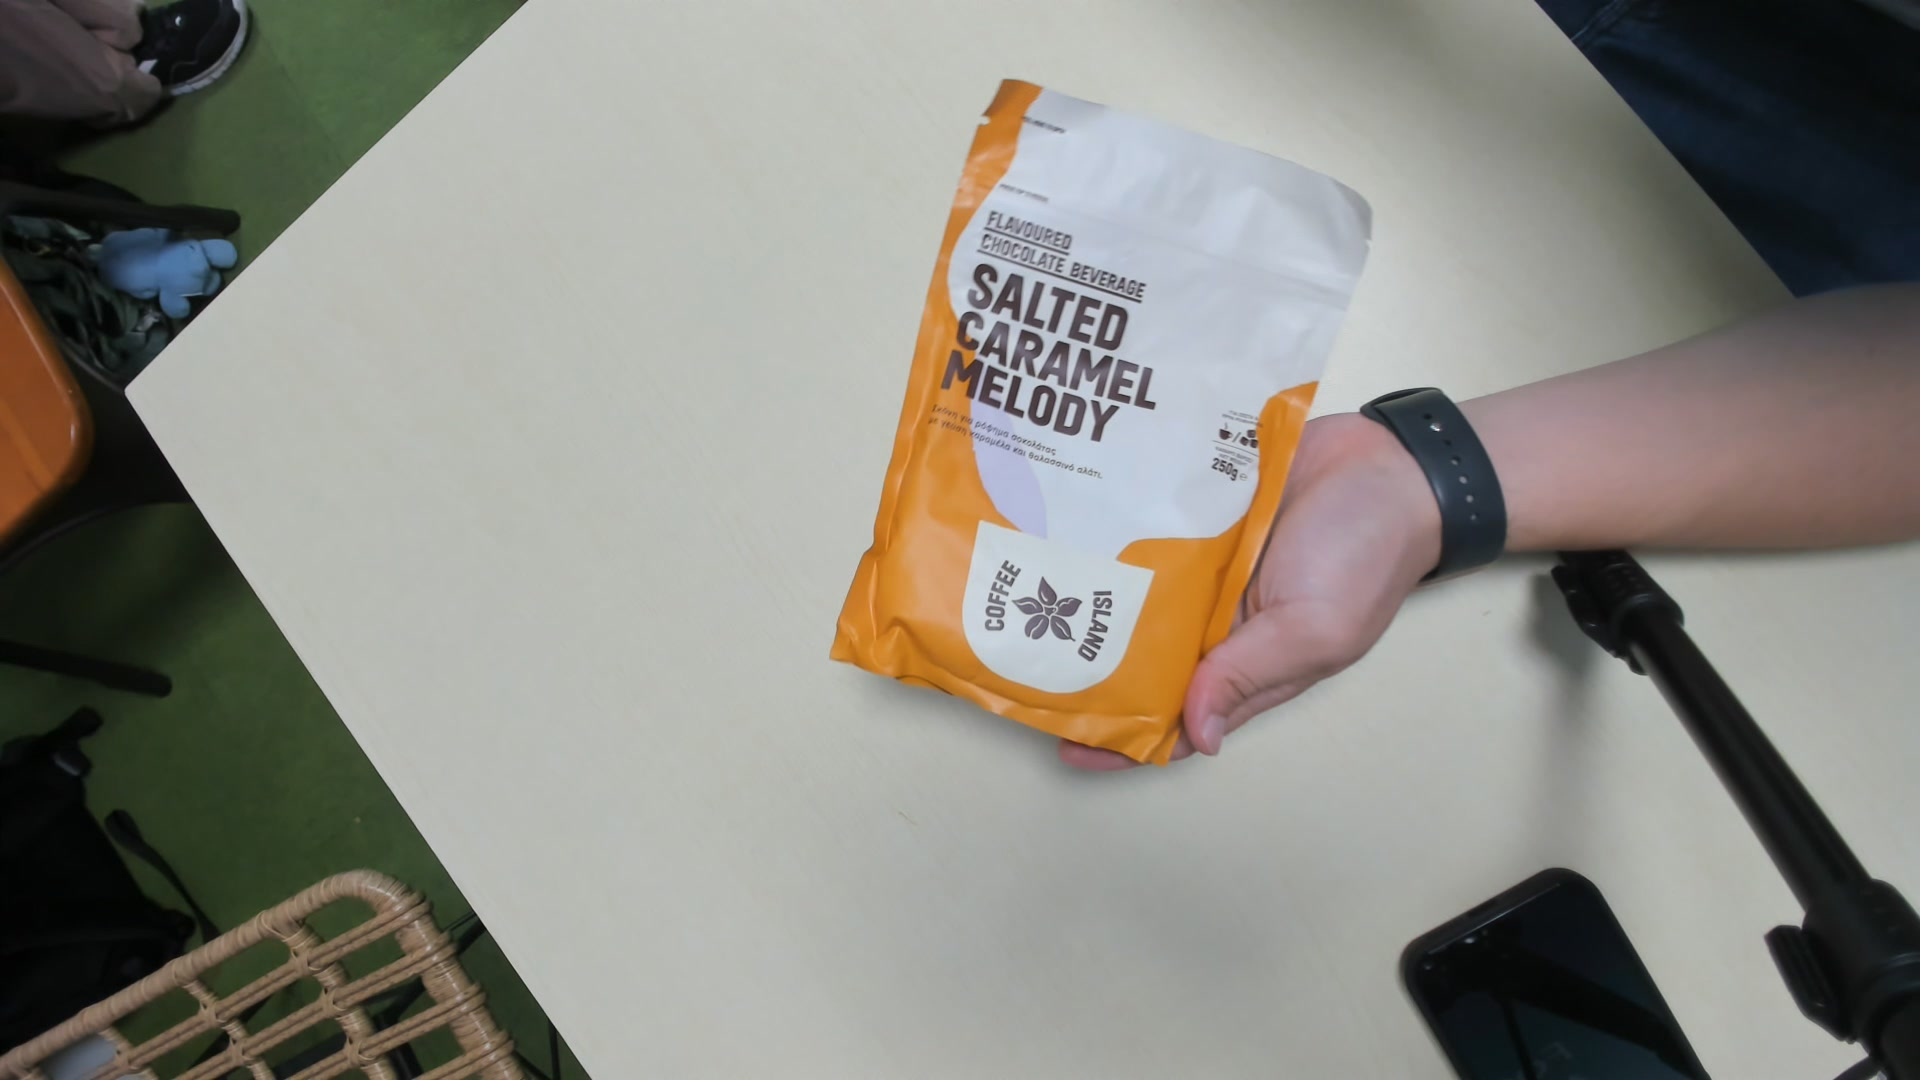Coffee_200-299g_NonHalal_NonHealthy: (855, 88, 1366, 766)
